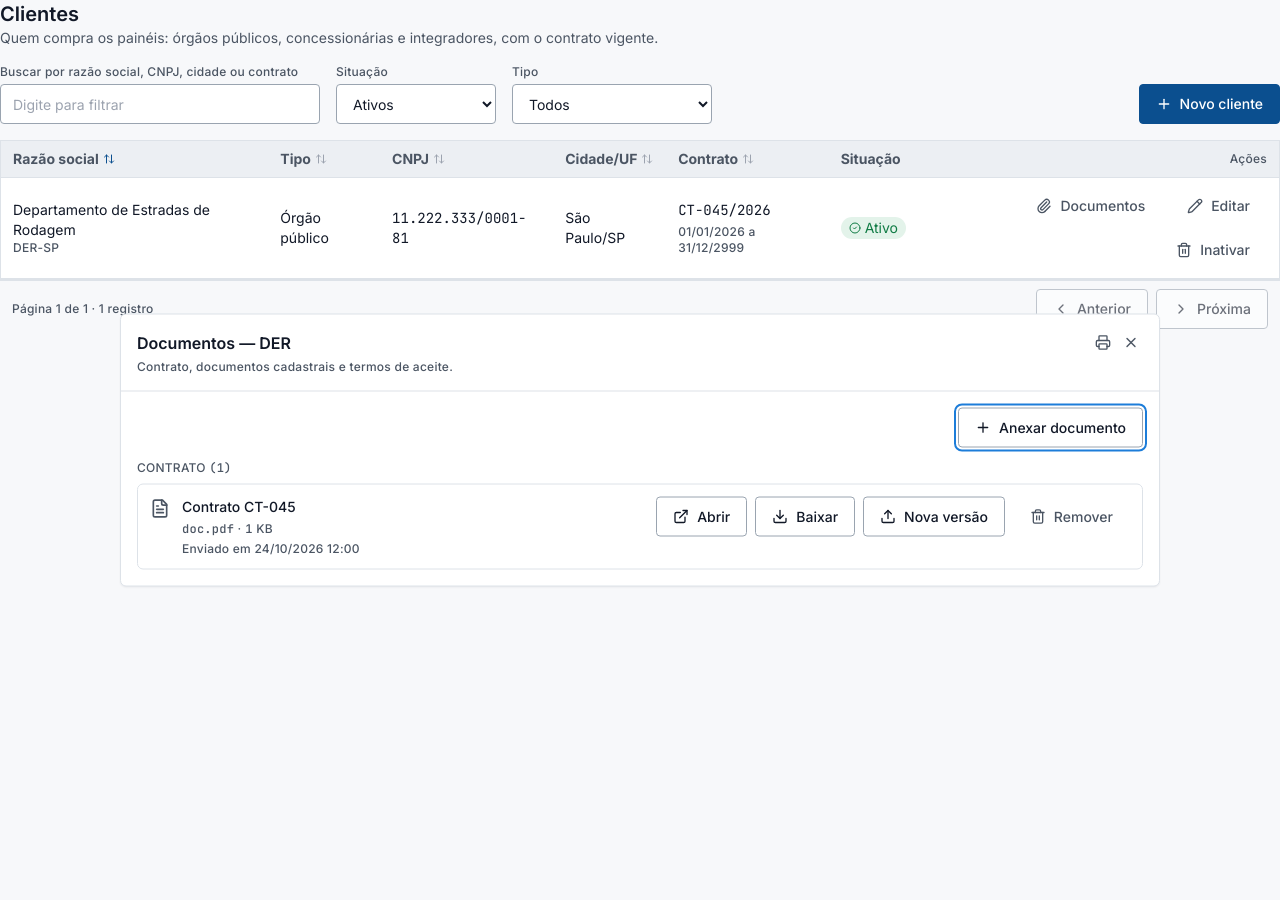
Test case: Clientes › link direto (?documentos=ID) abre os documentos do cliente
This screenshot has width=1280, height=900.
Expected: the text "Contrato CT-045" is shown, [182,498,296,514]
Click the button named "Fechar" at (1131, 342), box [1119,330,1143,354]
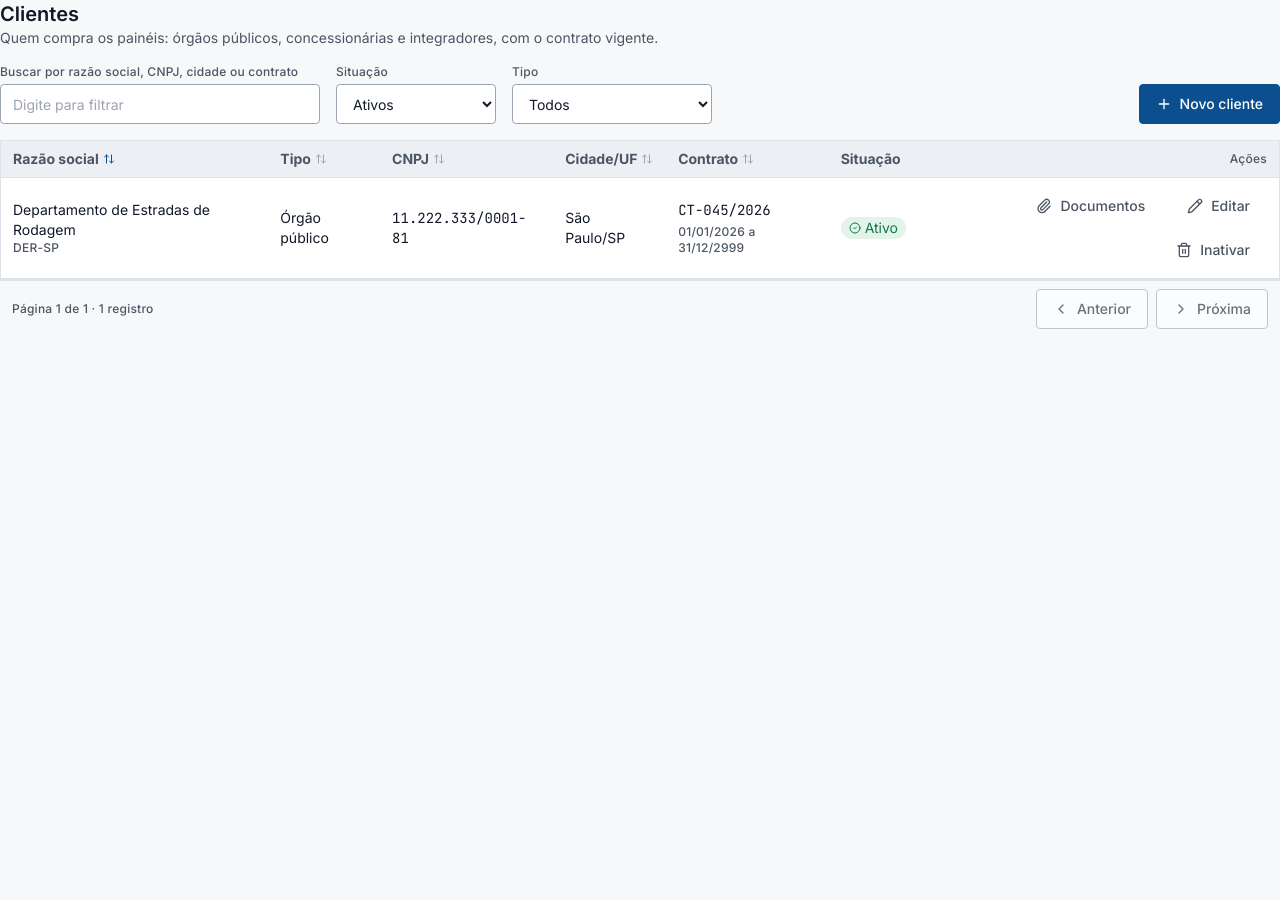
Expected: the dialog is gone
